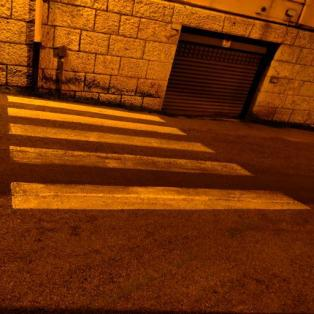Paso de Cebra: (0, 143, 313, 218), (1, 93, 190, 137)
